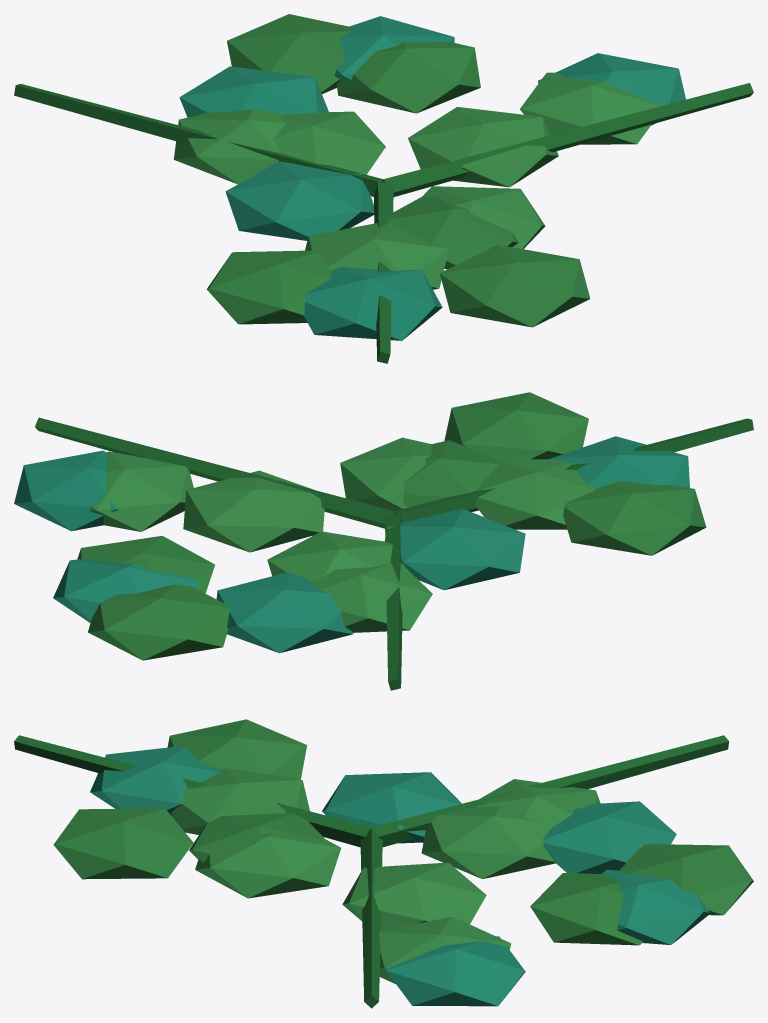
File: vines.glb
3 renders of one model, top to bottom at view 1: azimuth 30°, elevation 25°; view 2: azimuth 150°, elevation 25°; view 3: azimuth 270°, elevation 25°, orthographic. The views are drawn at different scales.
Parts seen in each view (by area): view 1: vines; view 2: vines; view 3: vines.
Boxes of the visible parts, x1,y1,x2,y2 form: vines: (14, 14, 753, 363); vines: (14, 392, 753, 690); vines: (14, 719, 753, 1008).
Bounding box in the file's own units: 1.82 × 0.1061 × 1.99.
